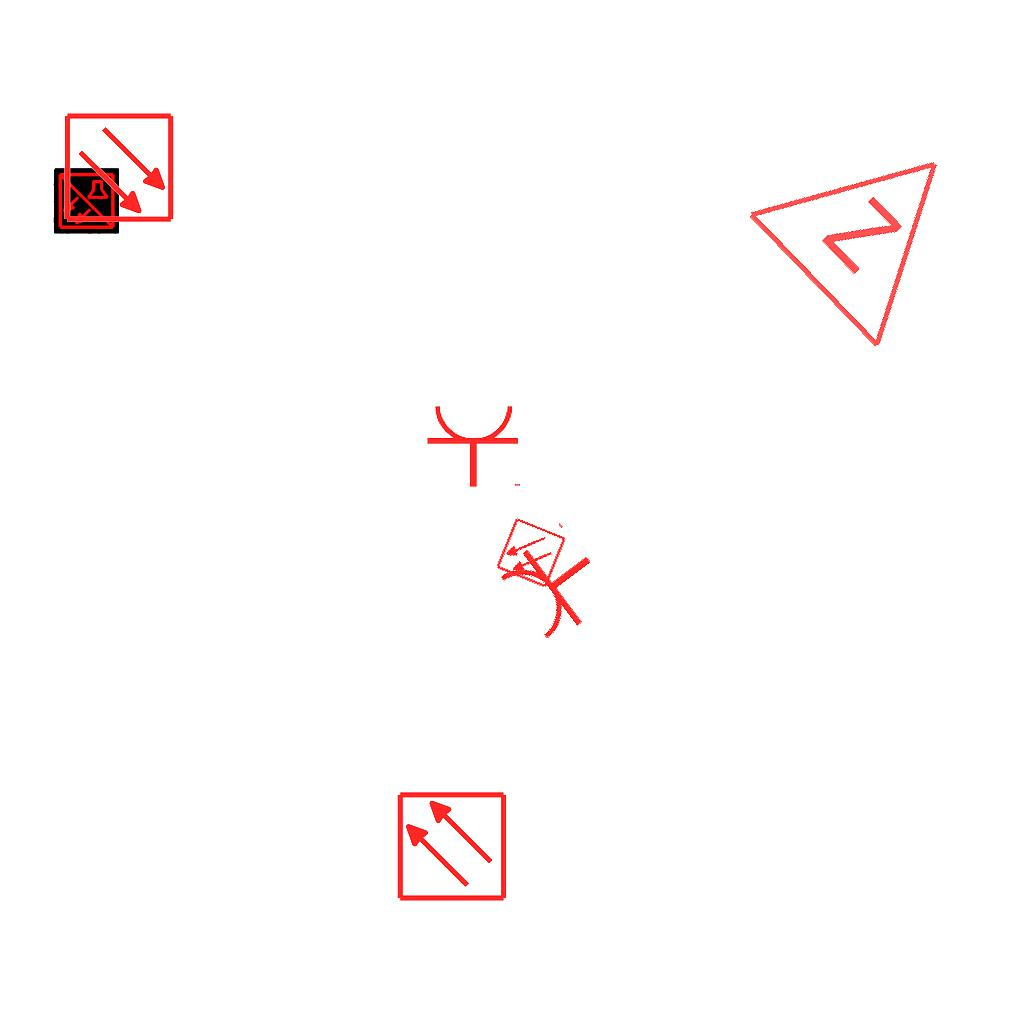OKW_Multisensormelder_(Kombination_optischer_Rauch-Kahlenmonoxid_Waerme-Melder): (53, 168, 119, 234)
RMO_Rauchmelder_optischer: (395, 790, 508, 903), (63, 111, 176, 224), (494, 516, 568, 590)
Schukosteckdose_einfach: (489, 516, 620, 650), (425, 402, 525, 489)
Zimmersignalleuchte: (731, 81, 1013, 361)
